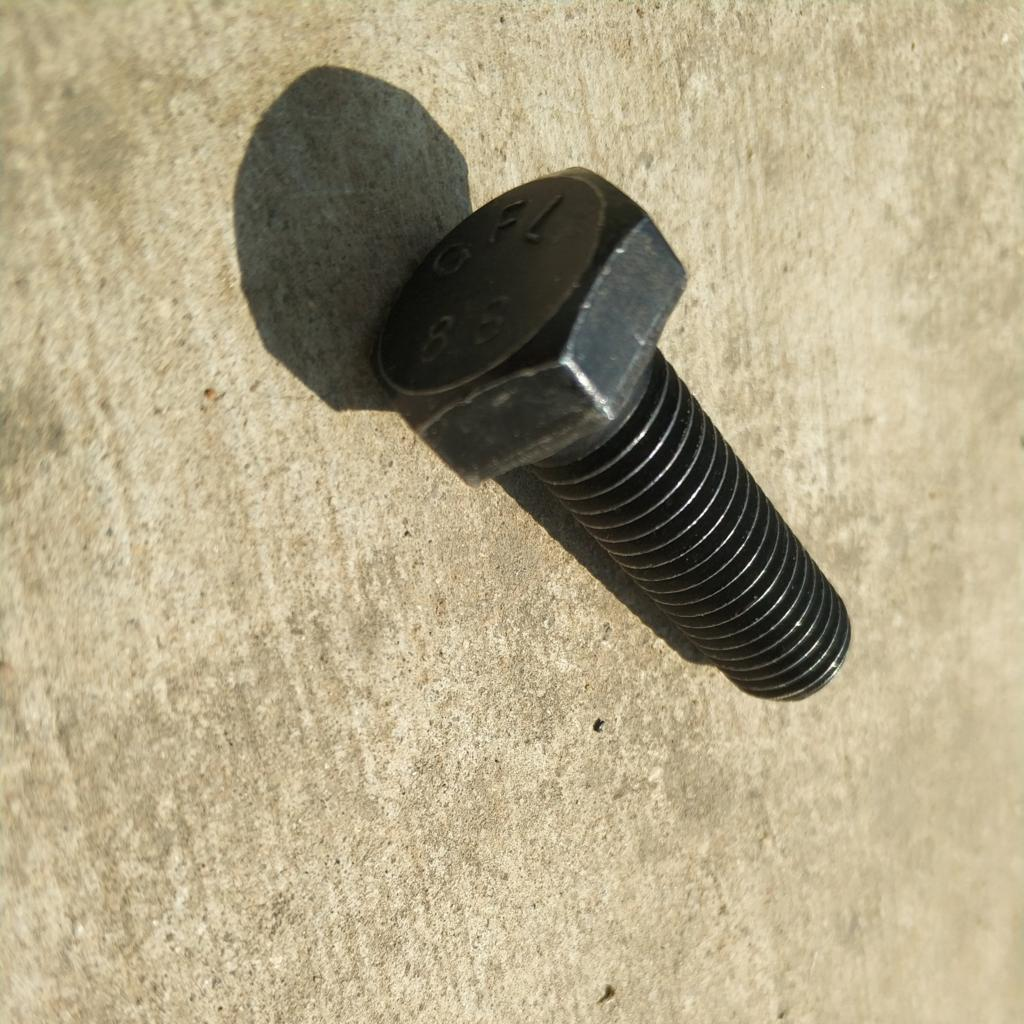screwtype2black: (344, 153, 857, 703)
